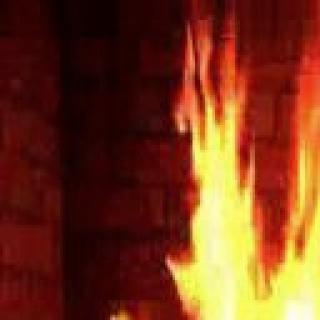fire: (160, 41, 320, 320)
